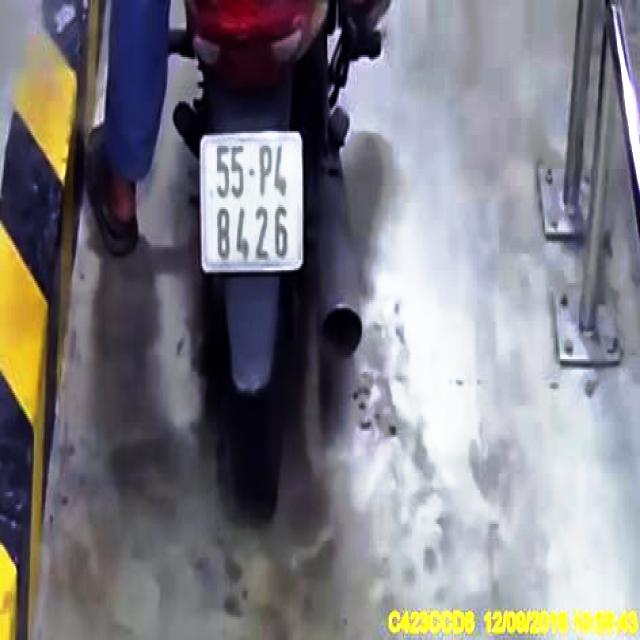license_plate: (200, 137, 304, 271)
